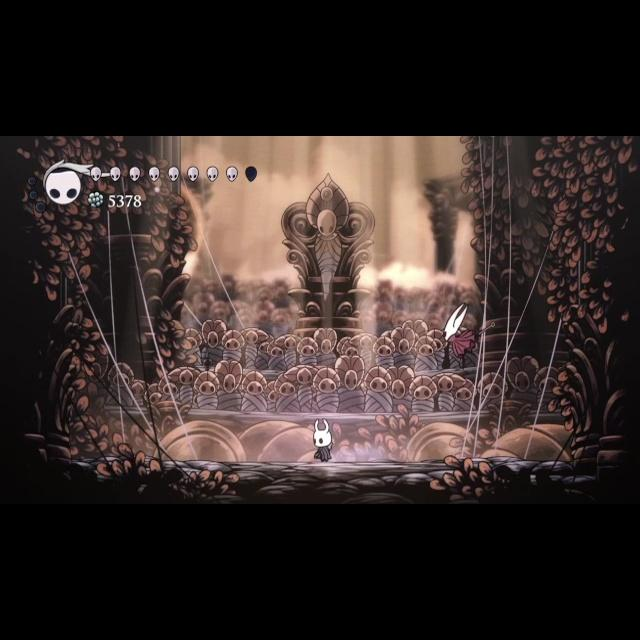EnemyLeadIn: (437, 301, 497, 367)
Player: (309, 416, 339, 464)
